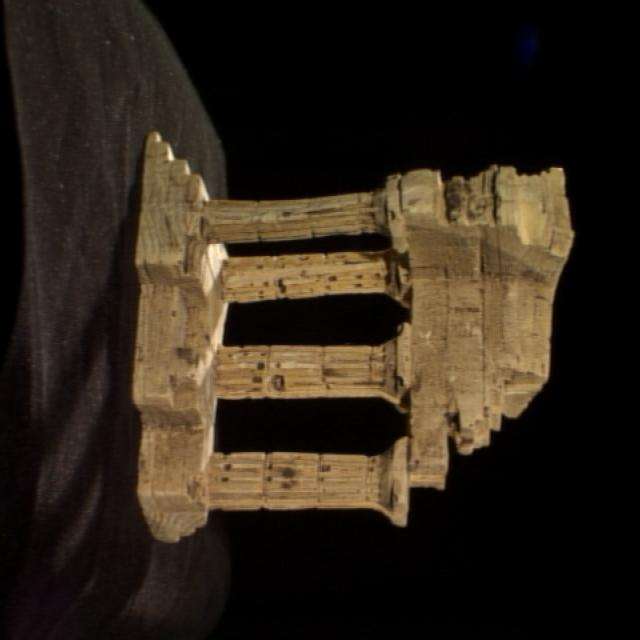Instance-Segmentation: (132, 132, 572, 541)
